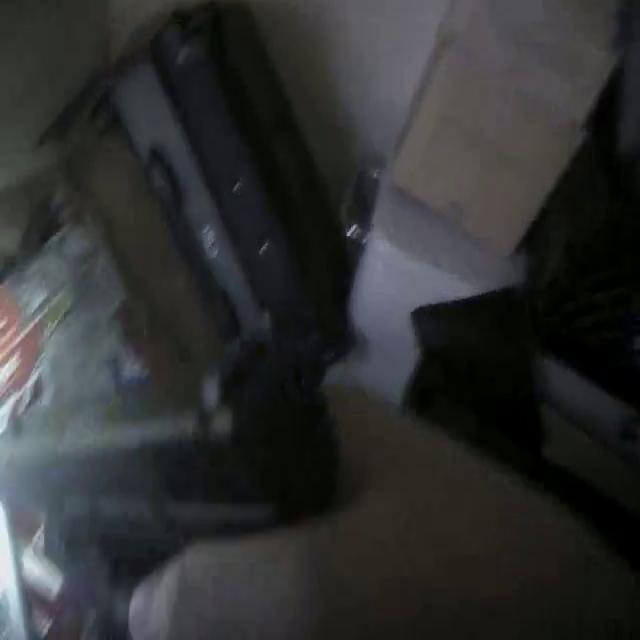gun: (0, 295, 375, 601)
